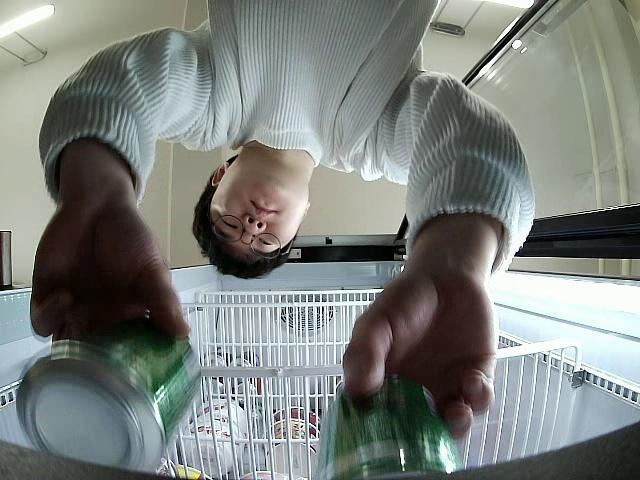12_chilsungCider: (14, 318, 203, 472), (318, 373, 466, 480)
